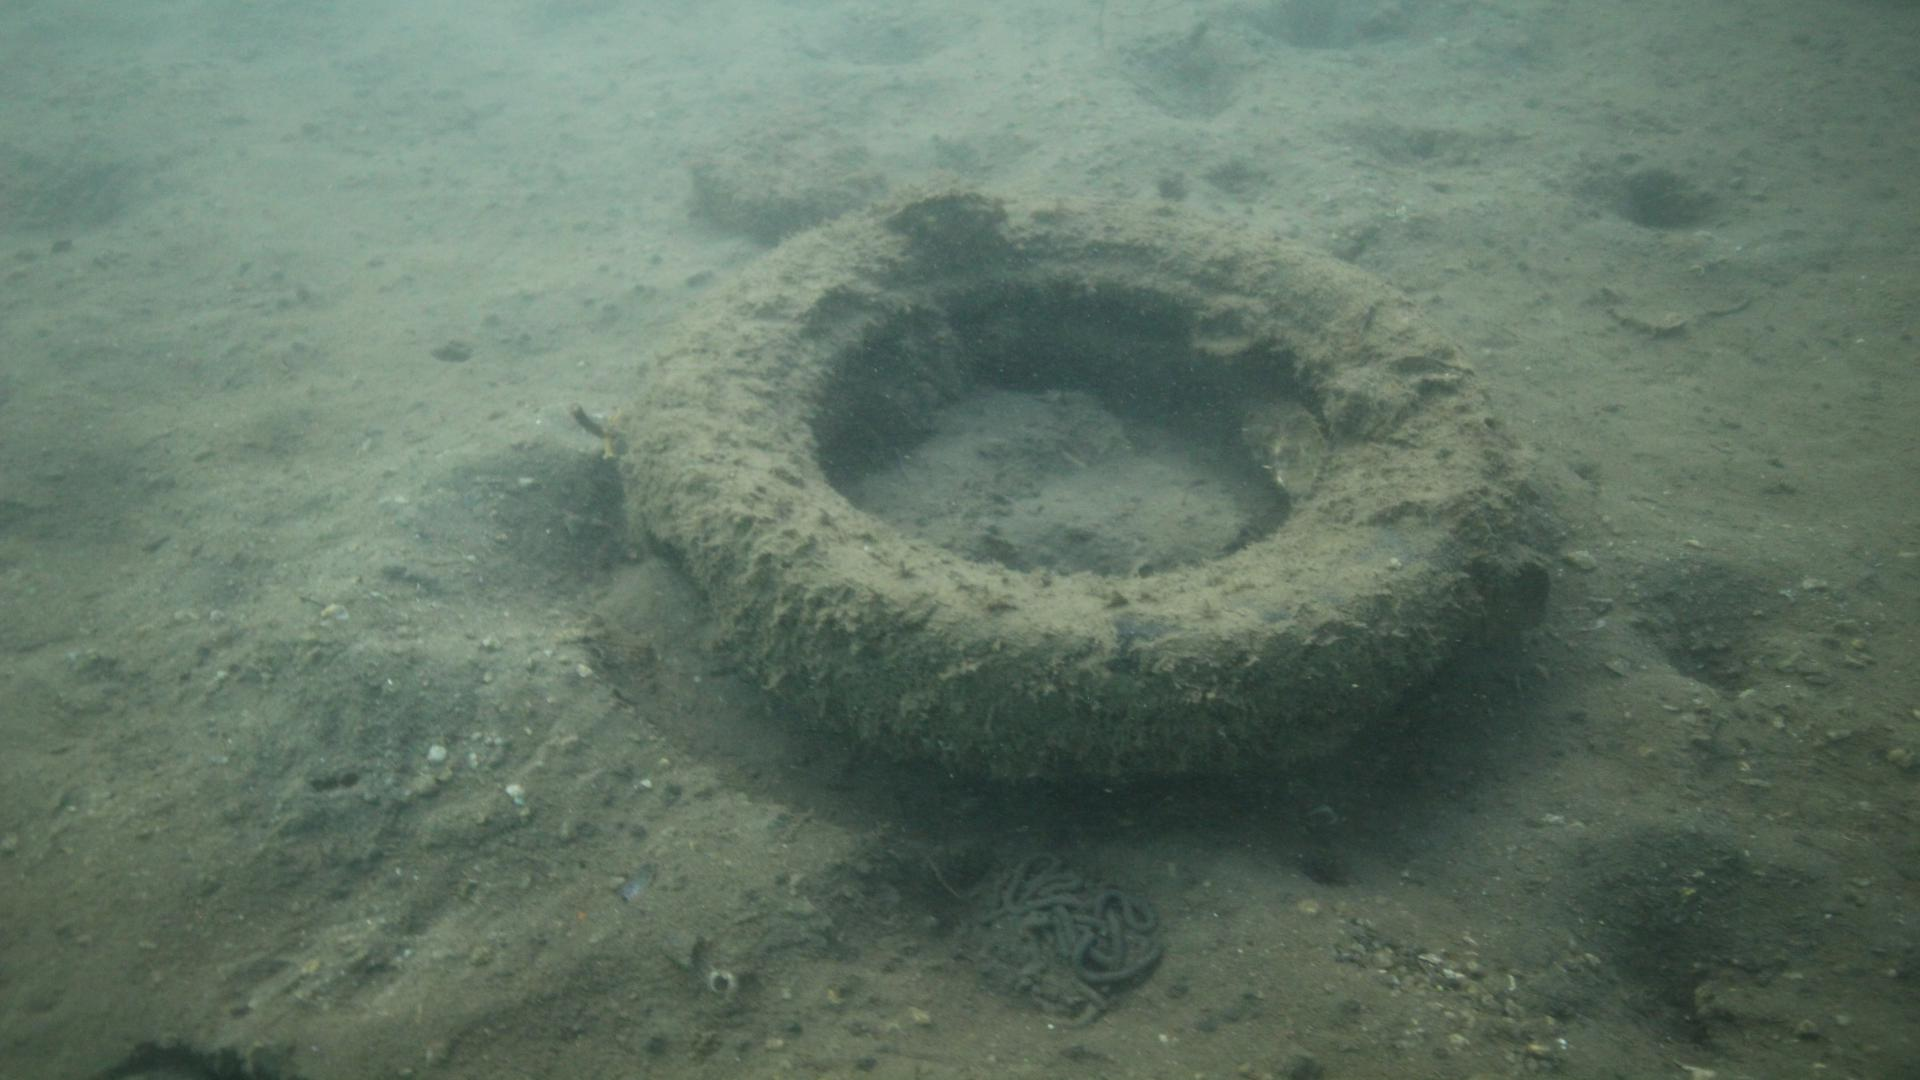tire: (618, 193, 1510, 793)
